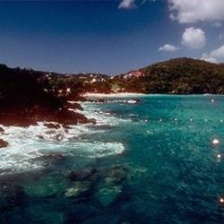neutral: (1, 33, 224, 217)
